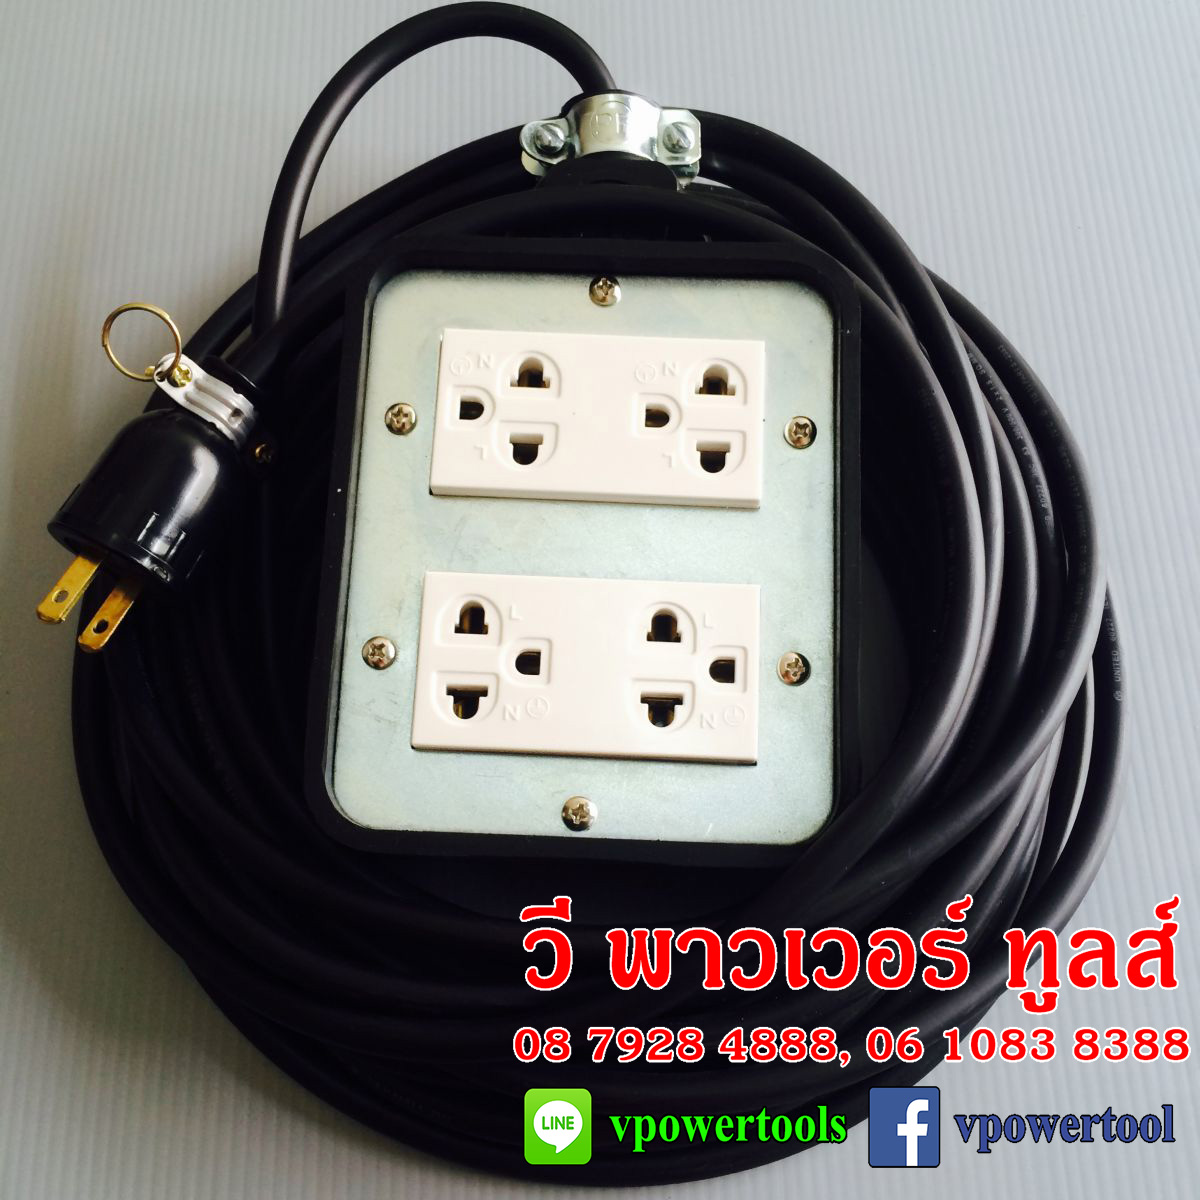Three_eye_plug: (314, 200, 868, 876)
